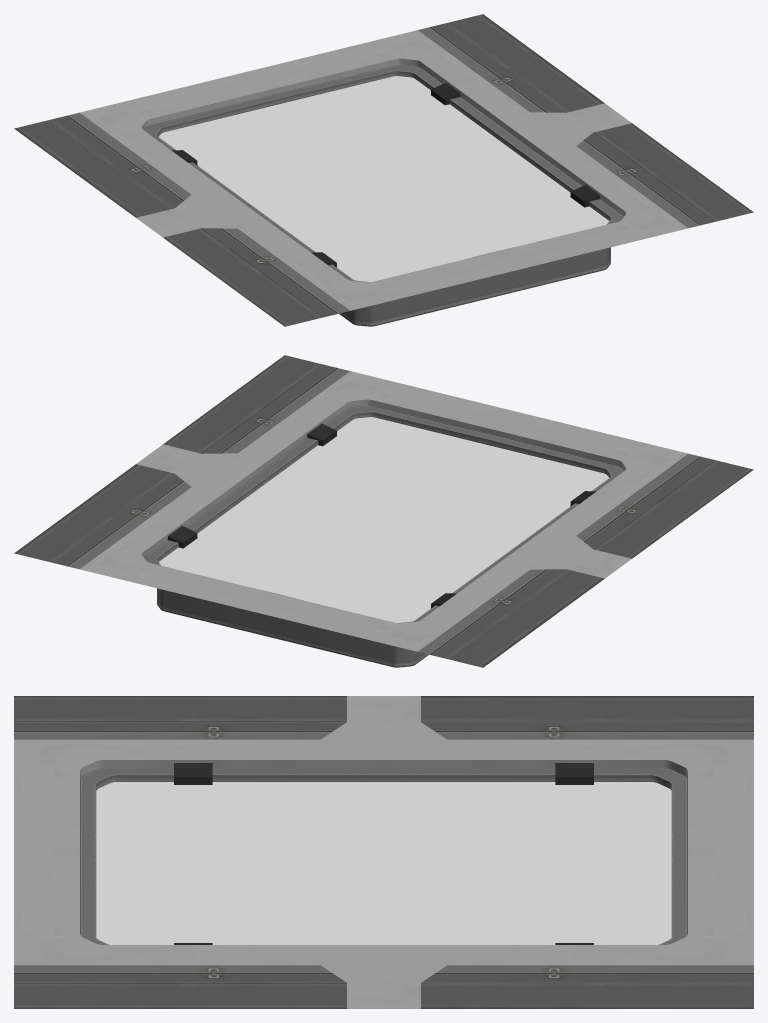
File: floor-window.glb
3 renders of one model, top to bottom at view 1: azimuth 30°, elevation 25°; view 2: azimuth 150°, elevation 25°; view 3: azimuth 270°, elevation 25°, orthographic. The views are drawn at different scales.
Visible parts, largest first — view 1: Platform_Window_Wide; view 2: Platform_Window_Wide; view 3: Platform_Window_Wide.
Part boxes in pixels (<box>): Platform_Window_Wide: <box>14,14,753,326</box>; Platform_Window_Wide: <box>14,355,753,667</box>; Platform_Window_Wide: <box>14,696,753,1008</box>.
Bounding box in the file's own units: 4 × 0.4133 × 4.
Materials: 4 (3 with a texture image).
